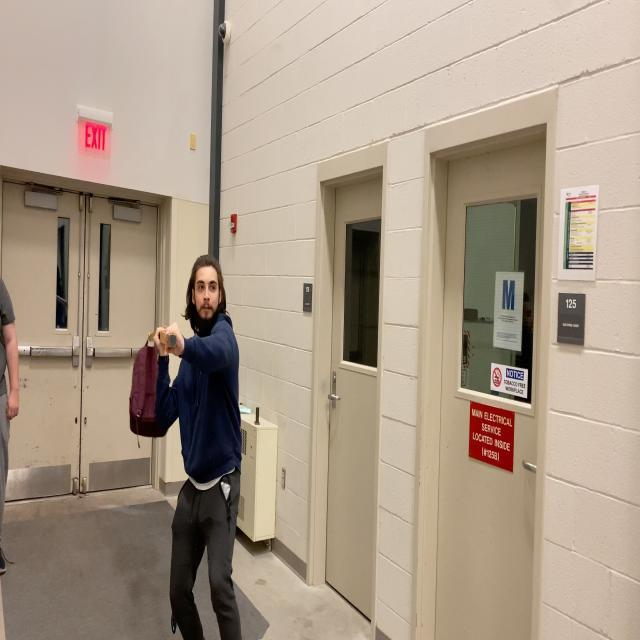Backpacks: (130, 342, 156, 434)
